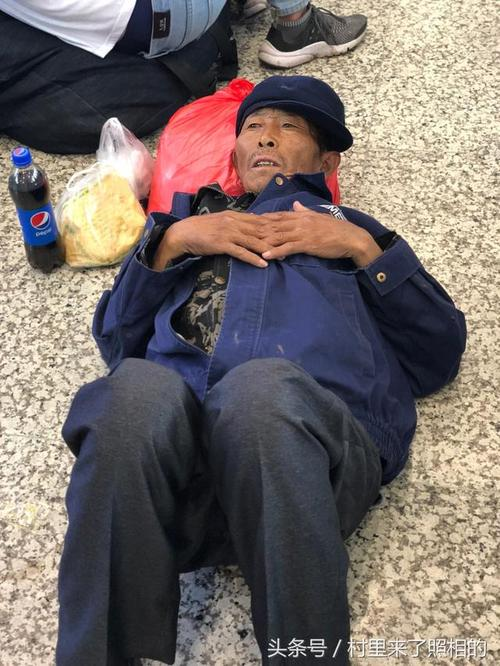fall: (41, 46, 465, 666)
